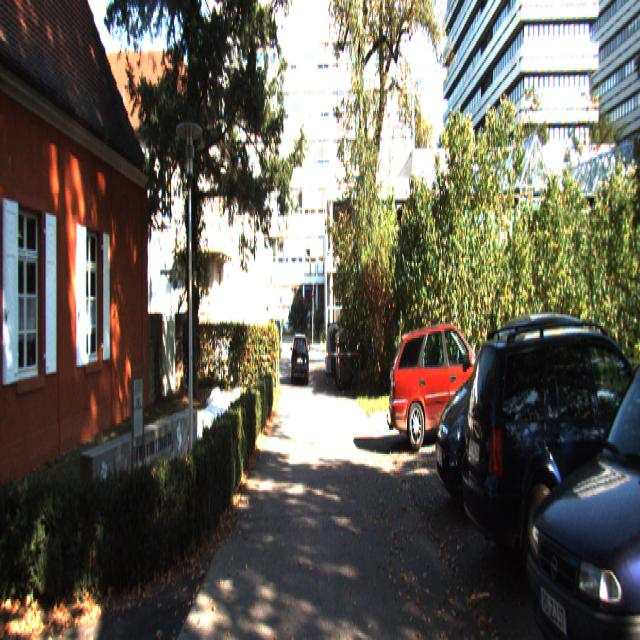Car: (460, 315, 640, 593), (512, 301, 640, 638), (433, 306, 607, 520), (388, 318, 510, 452), (292, 330, 310, 387)
